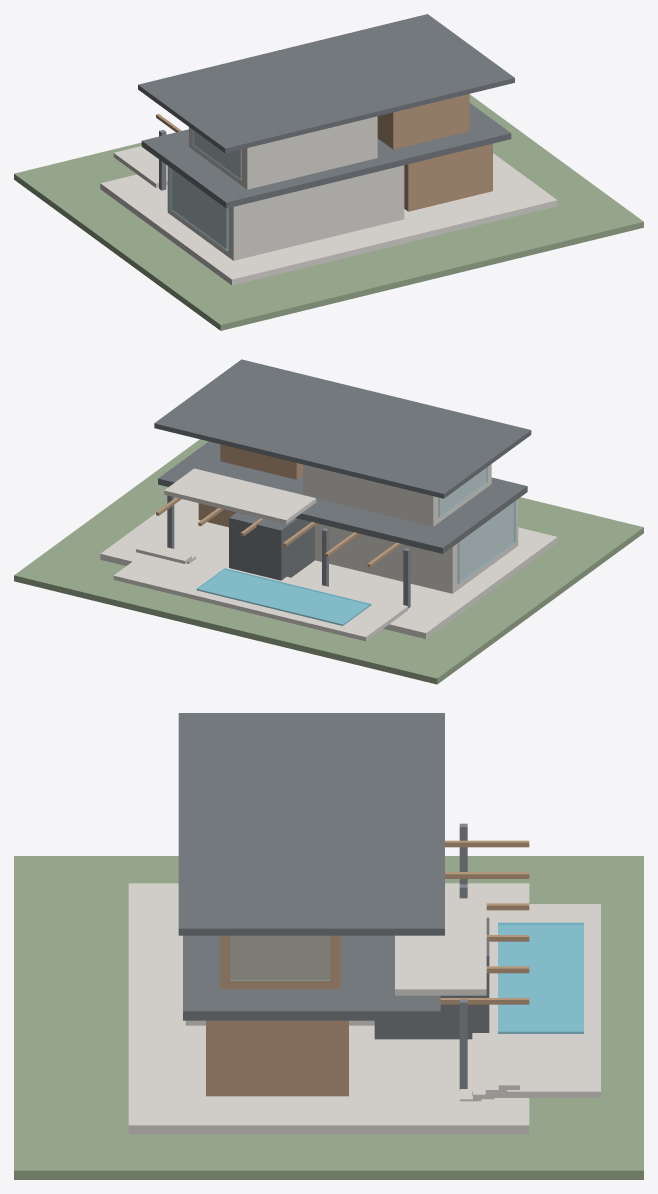
The model's file is villa.gltf.
The picture shows the model from 3 angles, top to bottom: view 1: azimuth 30°, elevation 25°; view 2: azimuth 150°, elevation 25°; view 3: azimuth 270°, elevation 25°; orthographic projection. The views are drawn at different scales.
Parts seen in each view (by area): view 1: site_base, roof_main, ground_slab, living_room, upper_slab, master_bedroom, kitchen, private_office, glass_living, pool_terrace, glass_master; view 2: site_base, roof_main, ground_slab, pool_terrace, upper_slab, living_room, master_bedroom, lobby, pool_water, sky_terrace, glass_living, private_office (+3 smaller); view 3: site_base, roof_main, ground_slab, pool_terrace, upper_slab, kitchen, pool_water, sky_terrace, private_office, glass_office, lobby, step_4 (+2 smaller).
Boxes of the visible parts, left/top/right/bottom form: site_base: left=14, top=94, right=643, bottom=330; roof_main: left=138, top=14, right=514, bottom=153; ground_slab: left=100, top=153, right=557, bottom=285; living_room: left=167, top=165, right=404, bottom=260; upper_slab: left=141, top=103, right=511, bottom=208; master_bedroom: left=189, top=116, right=377, bottom=189; kitchen: left=404, top=143, right=492, bottom=211; private_office: left=377, top=94, right=469, bottom=149; glass_living: left=170, top=167, right=228, bottom=250; pool_terrace: left=113, top=146, right=167, bottom=187; glass_master: left=192, top=130, right=241, bottom=180; site_base: left=14, top=439, right=643, bottom=684; roof_main: left=154, top=359, right=531, bottom=498; ground_slab: left=100, top=499, right=557, bottom=638; pool_terrace: left=113, top=544, right=407, bottom=641; upper_slab: left=158, top=441, right=527, bottom=553; living_room: left=315, top=499, right=518, bottom=593; master_bedroom: left=303, top=464, right=491, bottom=526; lobby: left=229, top=512, right=314, bottom=580; pool_water: left=196, top=568, right=371, bottom=625; sky_terrace: left=164, top=468, right=316, bottom=524; glass_living: left=457, top=501, right=515, bottom=583; private_office: left=220, top=444, right=302, bottom=479; site_base: left=14, top=856, right=643, bottom=1179; roof_main: left=178, top=713, right=444, bottom=935; ground_slab: left=128, top=883, right=529, bottom=1134; pool_terrace: left=472, top=904, right=600, bottom=1097; upper_slab: left=183, top=935, right=440, bottom=1020; kitchen: left=206, top=1020, right=348, bottom=1096; pool_water: left=498, top=922, right=583, bottom=1033; sky_terrace: left=395, top=898, right=486, bottom=995; private_office: left=220, top=935, right=340, bottom=988; glass_office: left=230, top=935, right=330, bottom=980; lobby: left=374, top=917, right=489, bottom=1039; step_4: left=498, top=1049, right=519, bottom=1089.
Bounding box in the file's own units: 26 × 7.54 × 22.
